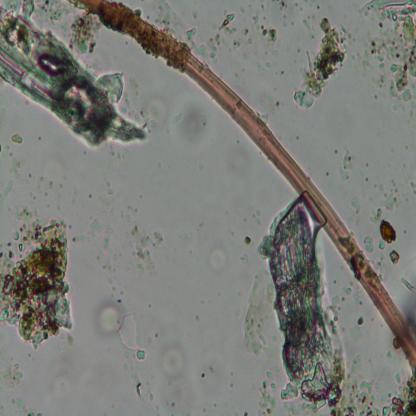Background material: (0, 211, 77, 345), (361, 0, 416, 112), (332, 354, 416, 414), (294, 19, 348, 110), (122, 211, 164, 277), (244, 268, 270, 358), (192, 9, 241, 56), (118, 309, 146, 363), (258, 368, 282, 416), (250, 13, 280, 50), (377, 217, 400, 265), (95, 304, 124, 340), (160, 343, 187, 378), (87, 219, 113, 254), (0, 357, 21, 389), (339, 149, 357, 182), (130, 372, 146, 399), (380, 191, 398, 212), (401, 273, 416, 296), (362, 231, 376, 253), (0, 180, 15, 199), (11, 134, 23, 145), (355, 316, 365, 328)
Cellulose filter fibre: (0, 9, 144, 143), (266, 204, 342, 394)
Microfibre: (80, 0, 416, 370)
